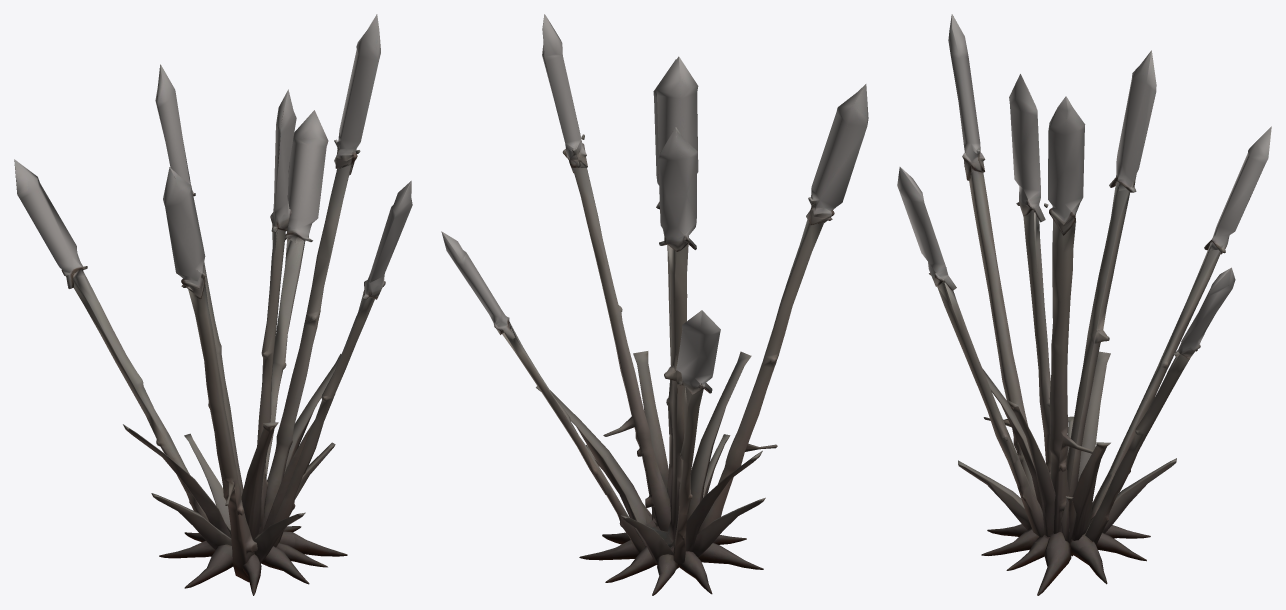
File: crystal-reeds.glb
The picture shows the model from 3 angles, left to right: view 1: azimuth 30°, elevation 25°; view 2: azimuth 150°, elevation 25°; view 3: azimuth 270°, elevation 25°; orthographic projection.
Visible parts, largest first — view 1: tripo_node_b9af4b20-e1fa-4cbd-ad3b-8700c5c033a8; view 2: tripo_node_b9af4b20-e1fa-4cbd-ad3b-8700c5c033a8; view 3: tripo_node_b9af4b20-e1fa-4cbd-ad3b-8700c5c033a8.
Part boxes in pixels (x1,y1,x2,y2): tripo_node_b9af4b20-e1fa-4cbd-ad3b-8700c5c033a8: [14, 14, 412, 595]; tripo_node_b9af4b20-e1fa-4cbd-ad3b-8700c5c033a8: [441, 14, 868, 595]; tripo_node_b9af4b20-e1fa-4cbd-ad3b-8700c5c033a8: [897, 14, 1271, 595].
Bounding box in the file's own units: 0.5845 × 0.9995 × 0.6509.
Materials: 1 (1 with a texture image).
